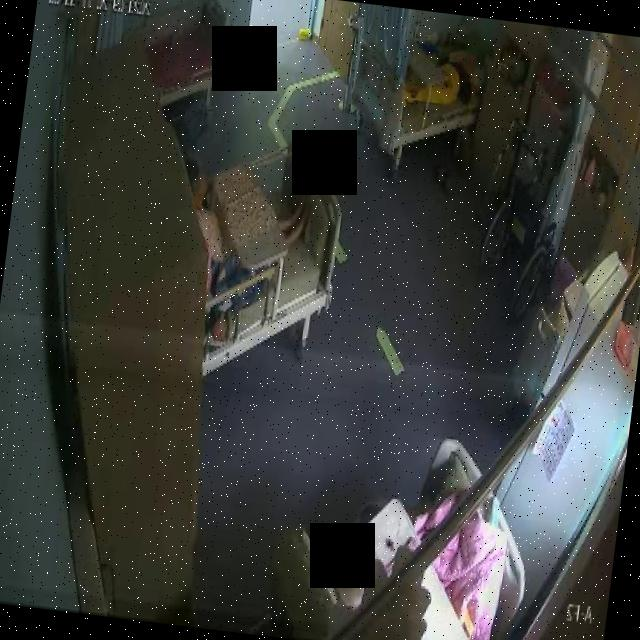bed: (274, 417, 542, 640), (176, 134, 347, 378), (344, 23, 487, 156), (139, 0, 235, 112)
